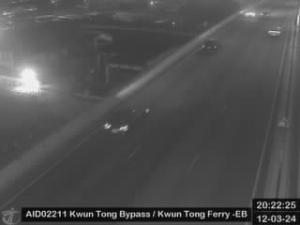vehicle: (104, 106, 150, 134), (203, 39, 221, 52), (267, 25, 283, 37)
